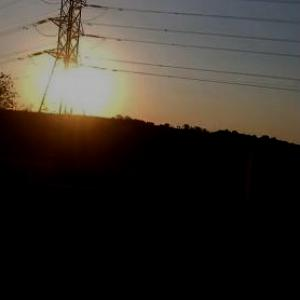follow: (22, 186, 81, 299)
